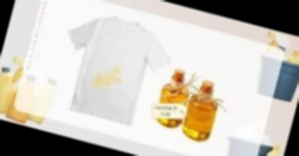oil: (90, 62, 126, 97)
